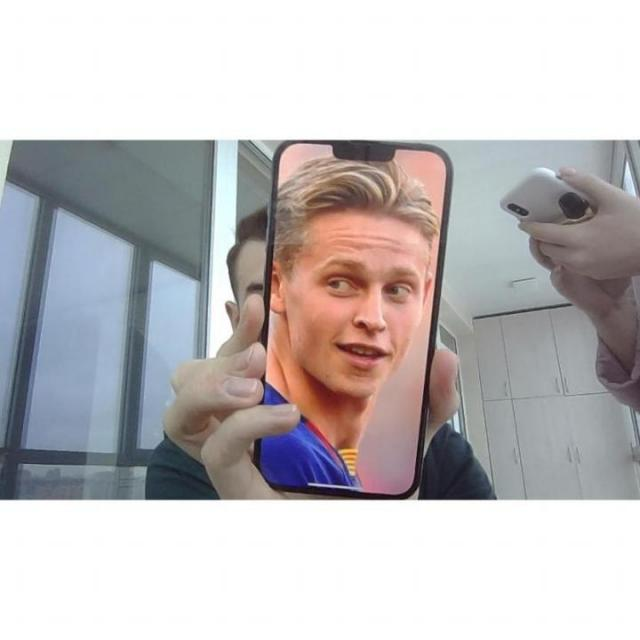device: (254, 140, 456, 500)
